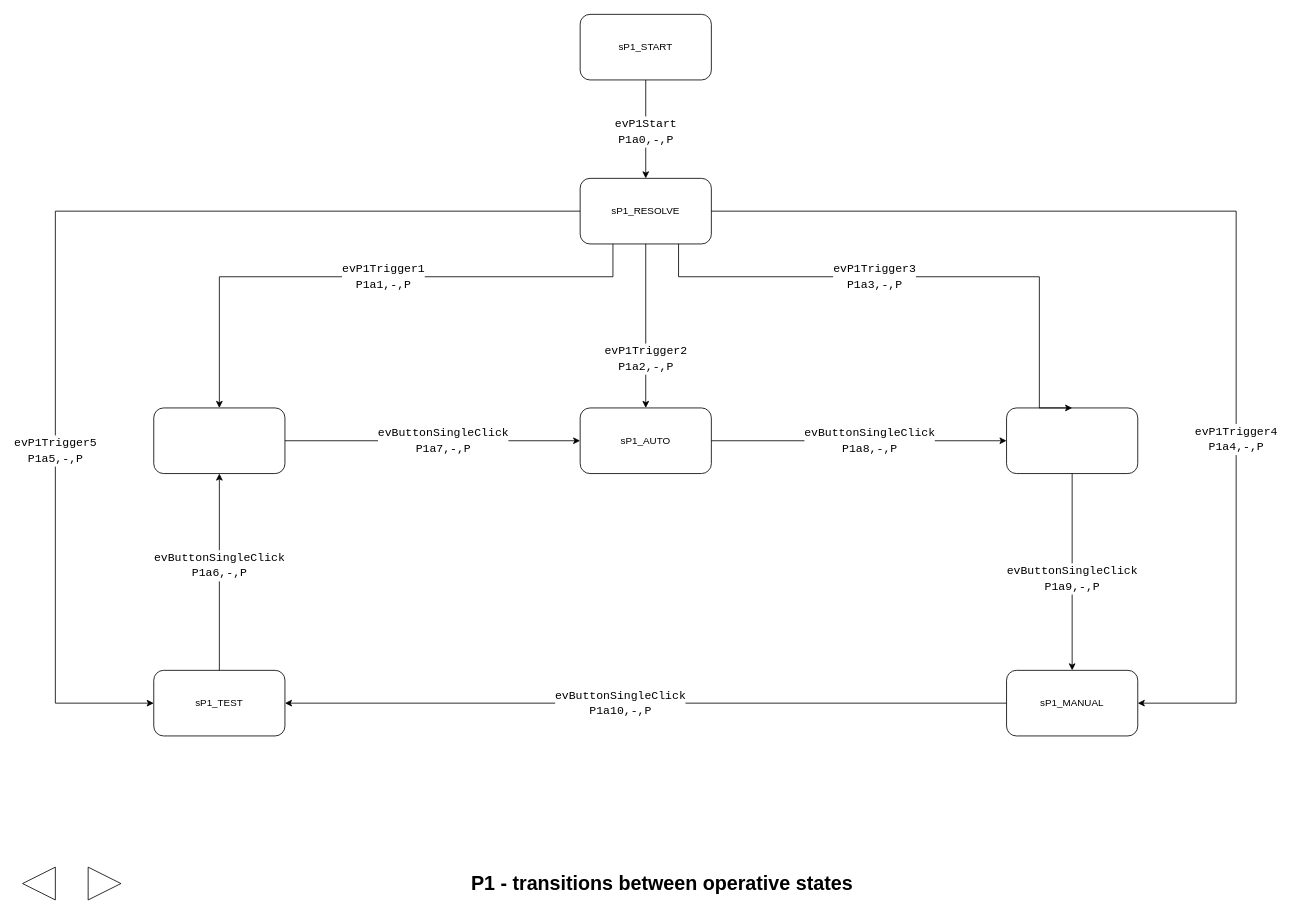
This 1292x914 diagram has some shape labels left out. Here are the shapes that lost their labels. From the top down, the centre of each, then its label:
At (x=219, y=440): "sP1_STANDBY".
At (x=1072, y=440): "sP1_AUTO_NIGTH".
